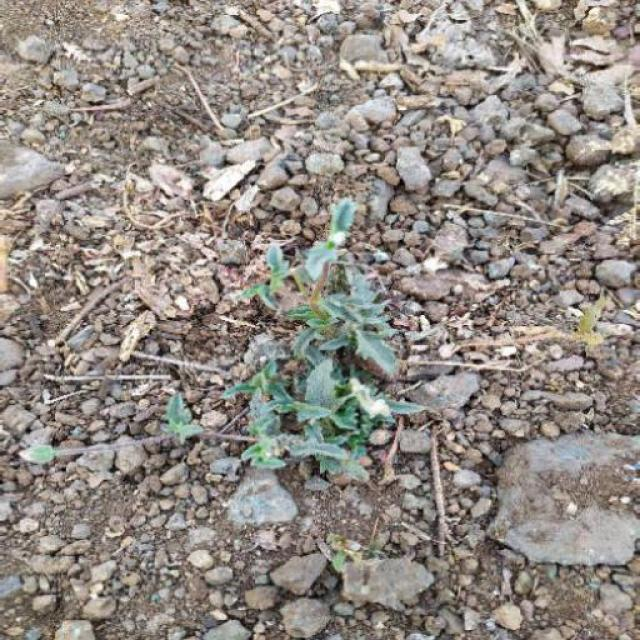weed: (208, 179, 432, 500)
